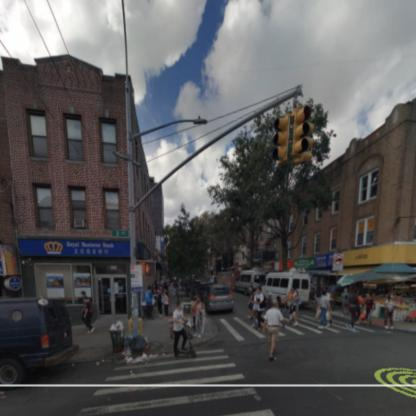Streetlights 1: (103, 111, 240, 364)
